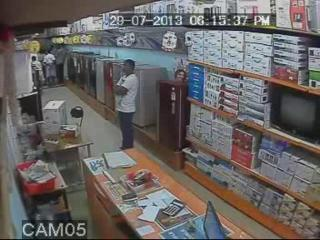Normal: (269, 88, 320, 146), (112, 59, 139, 151), (43, 49, 57, 86)
